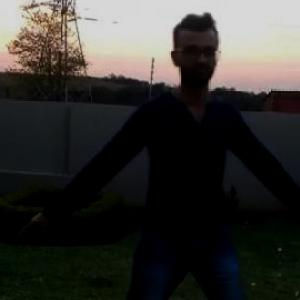land: (58, 31, 299, 299)
